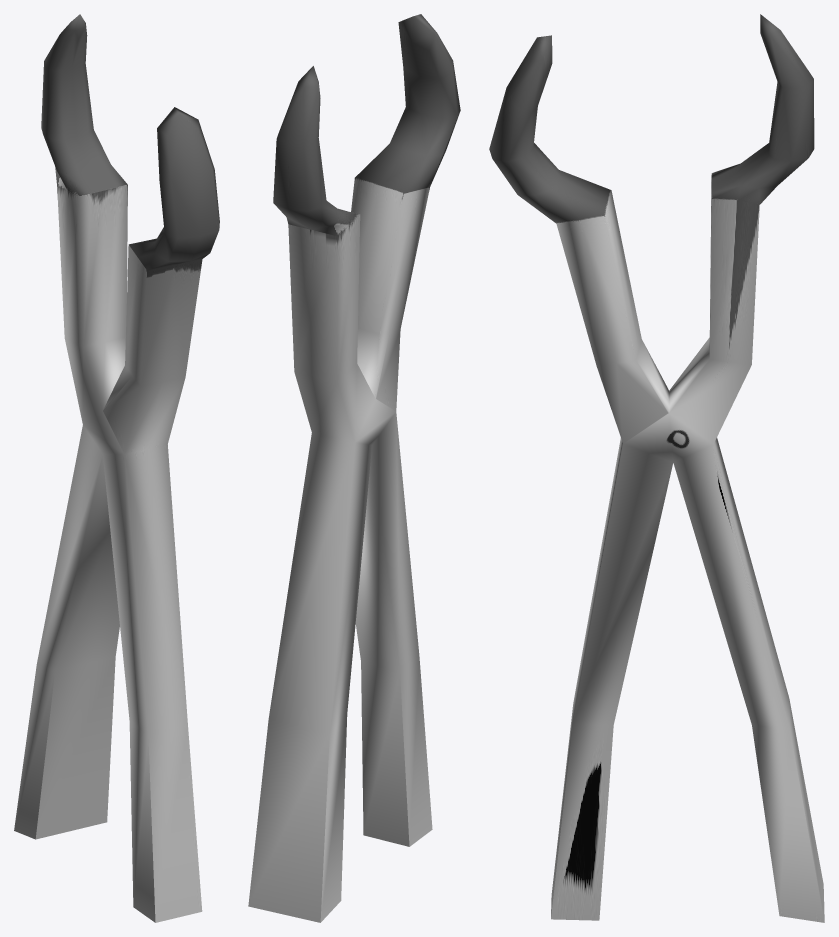
The model's file is Tongs.fbx.
3 views of the same model, side by side, from view 1: azimuth 30°, elevation 25°; view 2: azimuth 150°, elevation 25°; view 3: azimuth 270°, elevation 25° (orthographic). The views are drawn at different scales.
Parts seen in each view (by area): view 1: Tongs; view 2: Tongs; view 3: Tongs.
Part boxes in pixels (left/top/right/bottom): Tongs: left=14, top=14, right=219, bottom=922; Tongs: left=248, top=14, right=460, bottom=922; Tongs: left=489, top=14, right=824, bottom=922.
Bounding box in the file's own units: 20.92 × 230 × 78.16.
Materials: 1 (1 with a texture image).
